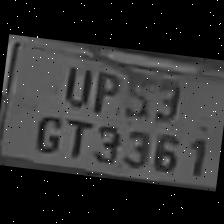1: (179, 129, 210, 176)
3: (150, 69, 185, 122), (117, 120, 151, 170), (86, 117, 122, 164)
5: (117, 62, 155, 118)
6: (147, 125, 183, 172)
G: (29, 108, 66, 153)
P: (86, 62, 122, 114)
T: (59, 111, 93, 158)
U: (57, 56, 94, 107)
